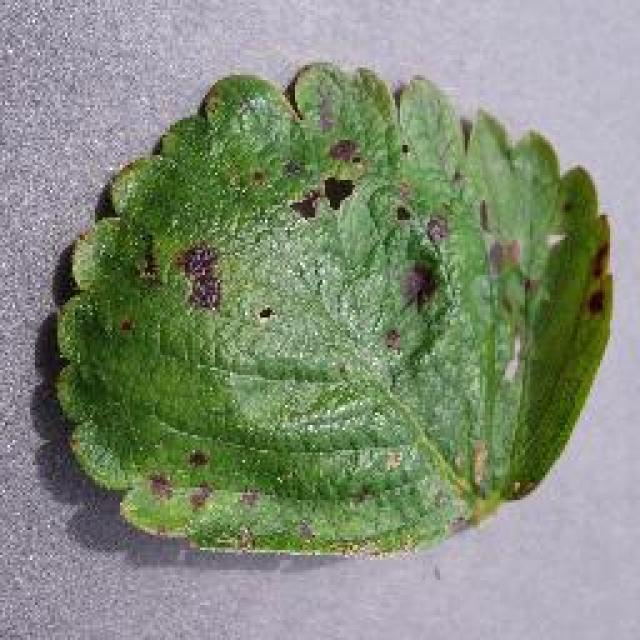Strawberry leaf scorch: (115, 93, 568, 357)
